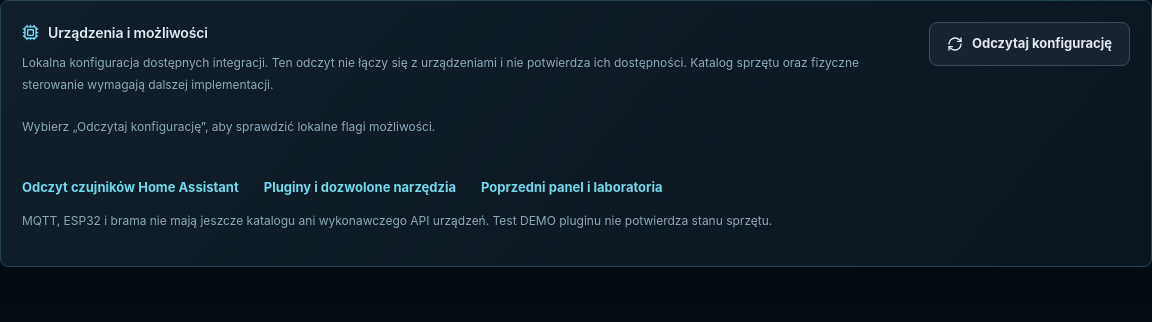
Test: Device capabilities reflect local metadata only › rejects malformed capability flags rather than displaying support for hardware
Click the button "Odczytaj konfigurację" at {"x": 1029, "y": 44}, box [929,22,1130,66]
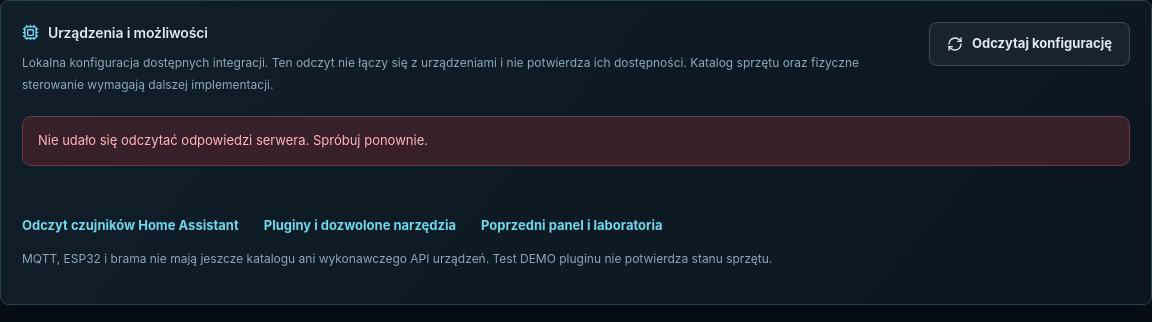
Expected: the message "Nie udało się odczytać odpowiedzi serwera. Spróbuj ponownie." is shown, [22,116,1130,166]
